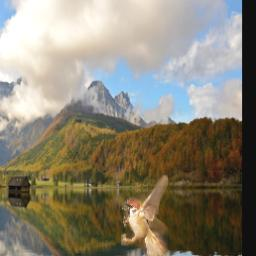Sparrow: (122, 176, 169, 256)
